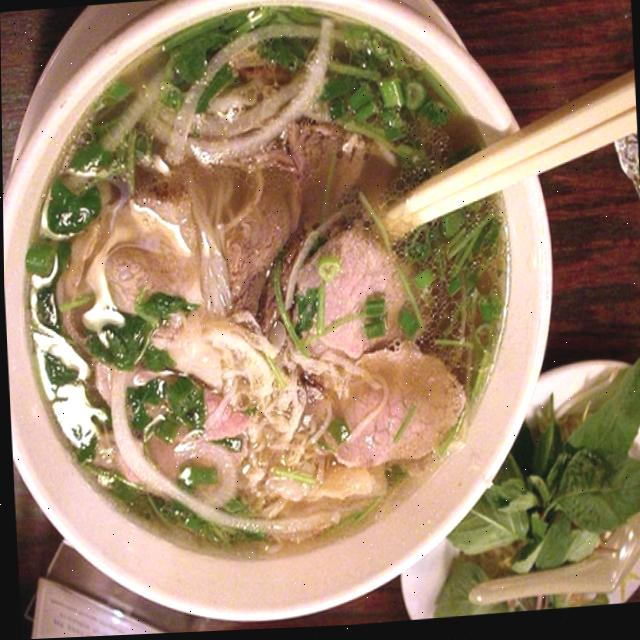面条主食: (11, 0, 539, 615)
